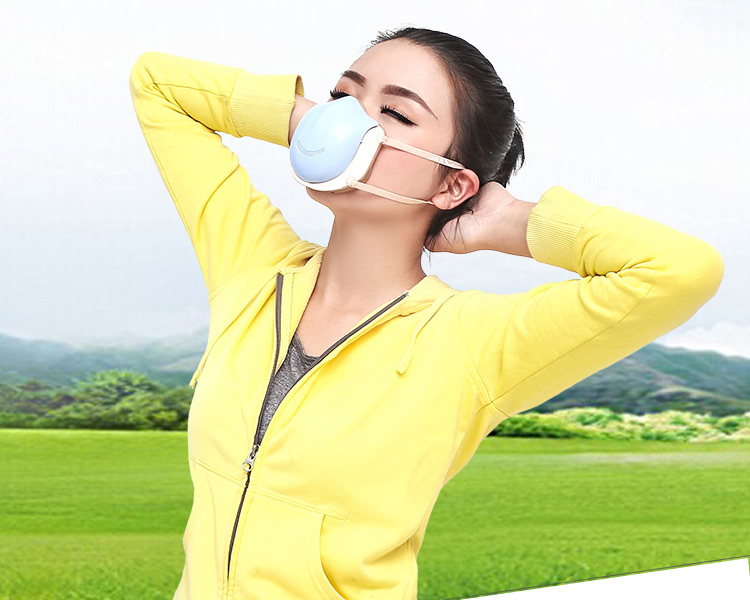face_mask: (297, 42, 453, 209)
